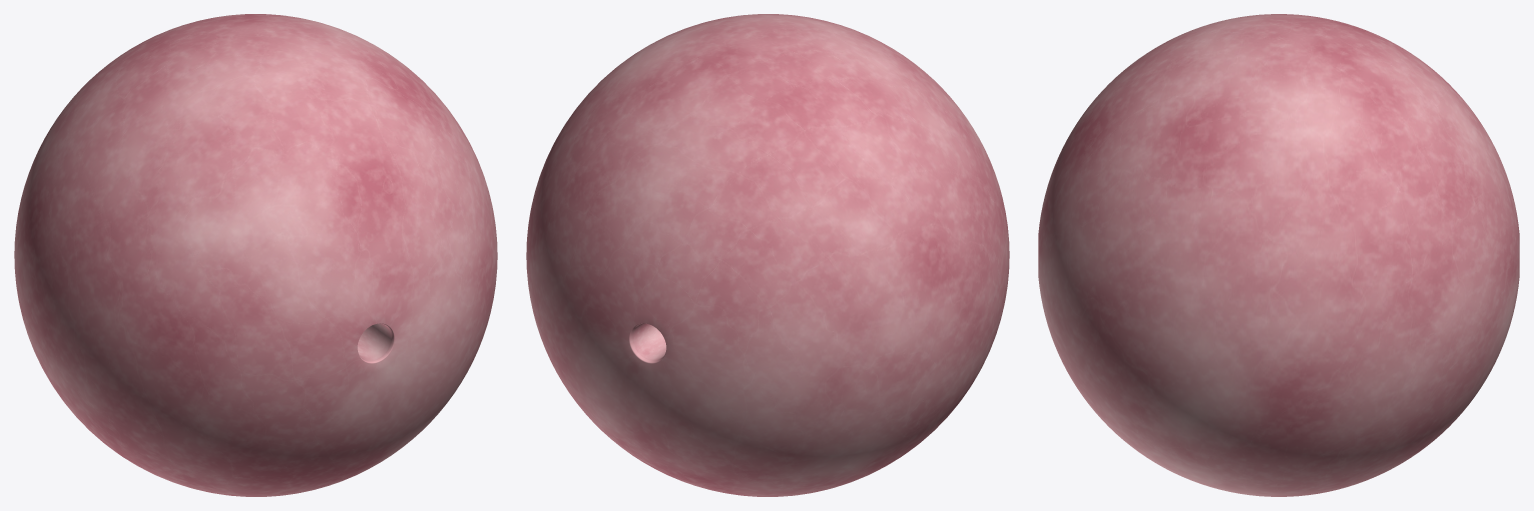
The model's file is rose-quartz-12mm.glb.
3 views of the same model, side by side, from view 1: azimuth 30°, elevation 25°; view 2: azimuth 150°, elevation 25°; view 3: azimuth 270°, elevation 25° (orthographic).
Parts seen in each view (by area): view 1: rose-quartz.001; view 2: rose-quartz.001; view 3: rose-quartz.001.
Part boxes in pixels (x1=…): rose-quartz.001: x1=14, y1=14, x2=497, y2=496; rose-quartz.001: x1=526, y1=14, x2=1009, y2=496; rose-quartz.001: x1=1038, y1=14, x2=1519, y2=496.
Bounding box in the file's own units: 0.012 × 0.012 × 0.012.
2 materials, 1 textured.
